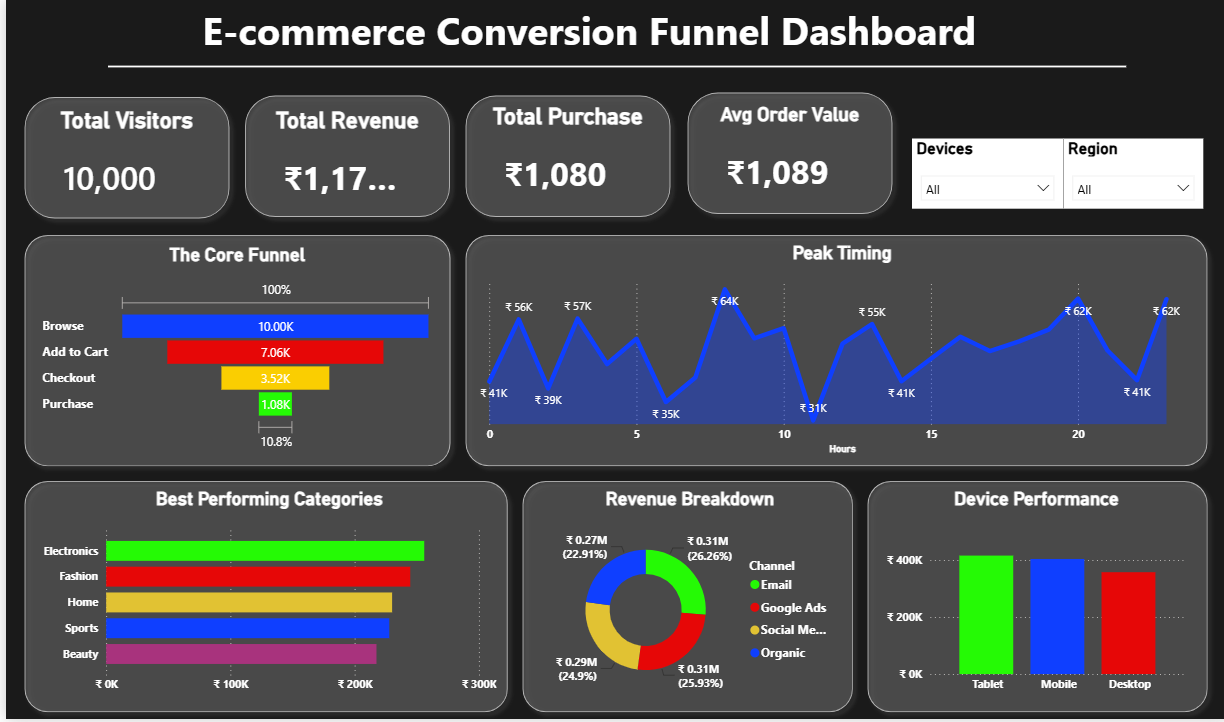

The page's visual inventory and layout, read from the dashboard file:
{"tool":"powerbi","page":{"name":"Page 1","canvas":[1360,800],"ordinal":0},"visuals":[{"type":"shape","box":[10.8,99.4,245.6,152.9],"z":0},{"type":"shape","box":[256.6,97.6,245.6,152.9],"z":1},{"type":"shape","box":[502.4,97.6,245.6,152.9],"z":2},{"type":"shape","box":[748.2,95.8,245.6,152.9],"z":3},{"type":"cardVisual","title":"Total Visitors","fields":{"Data":["All Measures.Total visitors"]},"box":[41.6,119.3,185.4,113.9],"z":4},{"type":"cardVisual","title":"Total Revenue","fields":{"Data":["All Measures.Total rev"]},"box":[287.4,119.3,185.4,113.9],"z":5},{"type":"cardVisual","title":"Total Purchase","fields":{"Data":["All Measures.Total Purchases"]},"box":[531.3,115.7,185.4,113.9],"z":6},{"type":"cardVisual","title":"Avg Order Value","fields":{"Data":["All Measures.Average Order Value"]},"box":[778.9,115.7,185.4,113.9],"z":7},{"type":"shape","box":[10.8,253,491.2,274.9],"z":8},{"type":"funnel","title":"The Core Funnel","fields":{"Category":["cleaned_funnel_data.Event"],"Y":["CountNonNull(cleaned_funnel_data.Session_ID)"]},"box":[34.3,271.1,444,235.8],"z":9},{"type":"shape","box":[565.7,525.9,384.9,274.7],"z":10},{"type":"donutChart","title":"Revenue Breakdown","fields":{"Category":["cleaned_funnel_data.Channel"],"Y":["Sum(cleaned_funnel_data.Revenue)"]},"box":[589.2,544,339.8,236.8],"z":11},{"type":"shape","box":[502.4,253,842.2,274.7],"z":12},{"type":"shape","box":[10.8,525.9,554.8,274.7],"z":13},{"type":"lineChart","title":"Peak Timing ","fields":{"Category":["cleaned_funnel_data.Hour_of_Day"],"Y":["Sum(cleaned_funnel_data.Revenue)"]},"box":[522.3,269.3,815.1,240.4],"z":14},{"type":"shape","box":[948.8,525.9,395.8,274.7],"z":15},{"type":"clusteredBarChart","title":"Best Performing Categories","fields":{"Category":["cleaned_funnel_data.Product_Category"],"Y":["Sum(cleaned_funnel_data.Revenue)"]},"box":[34.3,544,515.1,236.8],"z":16},{"type":"columnChart","title":"Device Performance","fields":{"Category":["cleaned_funnel_data.Device"],"Y":["Sum(cleaned_funnel_data.Revenue)"]},"box":[974.1,544,343.4,236.8],"z":17},{"type":"slicer","title":"Region","fields":{"Values":["cleaned_funnel_data.Region"]},"box":[1174.7,155.4,155.4,77.7],"z":18},{"type":"slicer","title":"Devices","fields":{"Values":["cleaned_funnel_data.Device"]},"box":[1006.7,155.4,168.1,77.7],"z":19},{"type":"textbox","box":[213.3,0,927.1,95.8],"z":20},{"type":"shape","box":[113.9,0,1131.4,150],"z":21}]}

Visuals, with their boxes in screenshot pixels (x1, y1, x2, y2), scaled from the page's 1360x800 canvas onto the 1224x722 screenshot:
shape: box=[10, 90, 231, 228]
shape: box=[231, 88, 452, 226]
shape: box=[452, 88, 673, 226]
shape: box=[673, 86, 894, 224]
"Total Visitors" cardVisual: box=[37, 108, 204, 210]
"Total Revenue" cardVisual: box=[259, 108, 426, 210]
"Total Purchase" cardVisual: box=[478, 104, 645, 207]
"Avg Order Value" cardVisual: box=[701, 104, 868, 207]
shape: box=[10, 228, 452, 476]
"The Core Funnel" funnel: box=[31, 245, 430, 457]
shape: box=[509, 475, 856, 721]
"Revenue Breakdown" donutChart: box=[530, 491, 836, 705]
shape: box=[452, 228, 1210, 476]
shape: box=[10, 475, 509, 721]
"Peak Timing " lineChart: box=[470, 243, 1204, 460]
shape: box=[854, 475, 1210, 721]
"Best Performing Categories" clusteredBarChart: box=[31, 491, 494, 705]
"Device Performance" columnChart: box=[877, 491, 1186, 705]
"Region" slicer: box=[1057, 140, 1197, 210]
"Devices" slicer: box=[906, 140, 1057, 210]
textbox: box=[192, 0, 1026, 86]
shape: box=[103, 0, 1121, 135]
